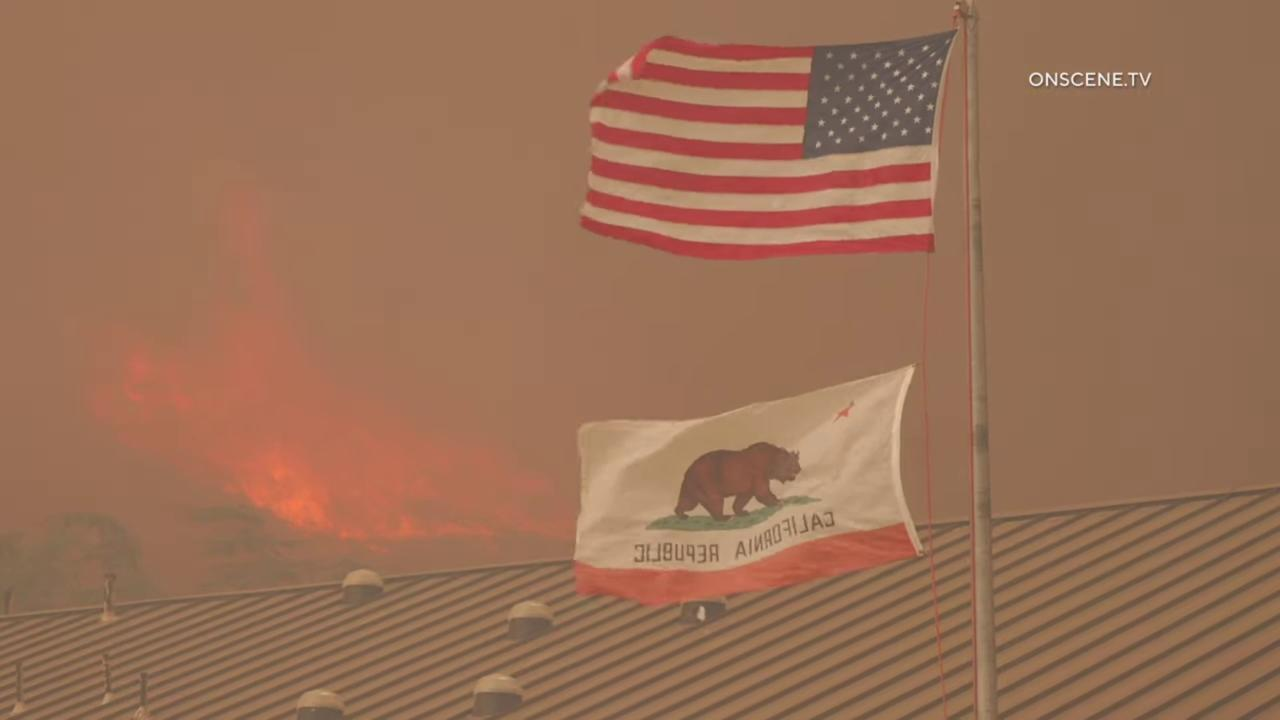fire: (82, 186, 571, 548)
smoke: (0, 0, 1280, 612)
